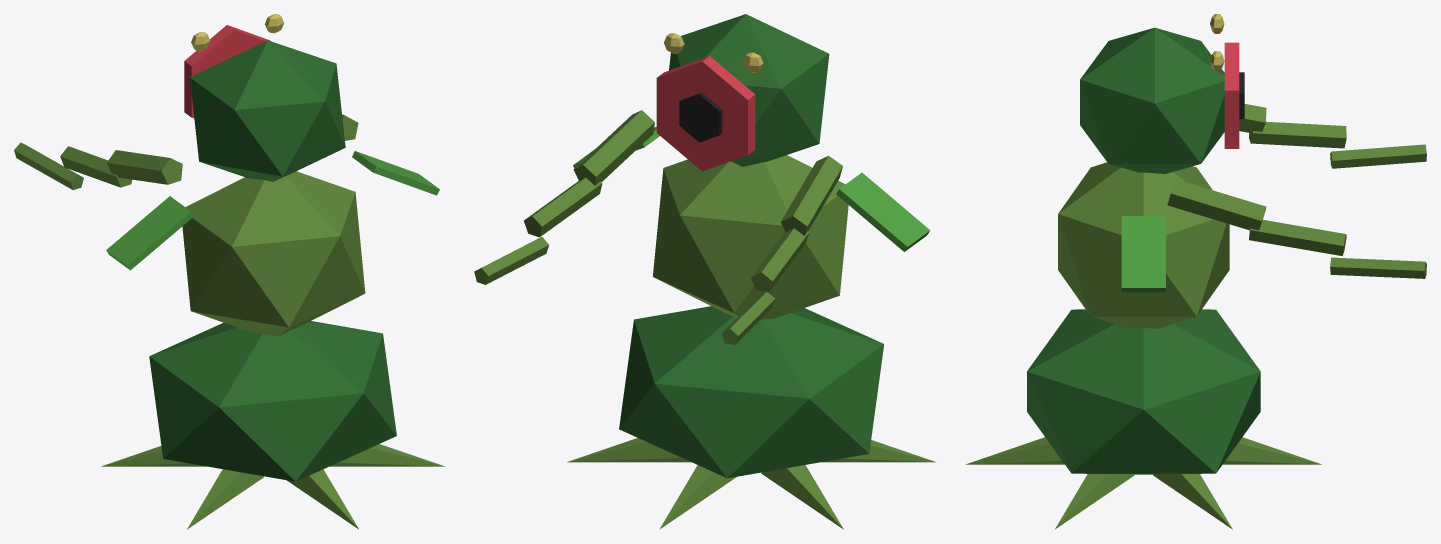
File: enemy_vine_creeper.glb
3 renders of one model, left to right at view 1: azimuth 30°, elevation 25°; view 2: azimuth 150°, elevation 25°; view 3: azimuth 270°, elevation 25°, orthographic. The views are drawn at different scales.
Visible parts, largest first — view 1: enemy_vine_creeper; view 2: enemy_vine_creeper; view 3: enemy_vine_creeper.
Boxes of the visible parts, x1,y1,x2,y2 form: enemy_vine_creeper: [14, 14, 444, 529]; enemy_vine_creeper: [474, 14, 935, 529]; enemy_vine_creeper: [965, 14, 1426, 529].
Size of the model in its own units: 1.02 by 1.35 by 1.26.
1 material, 1 textured.
